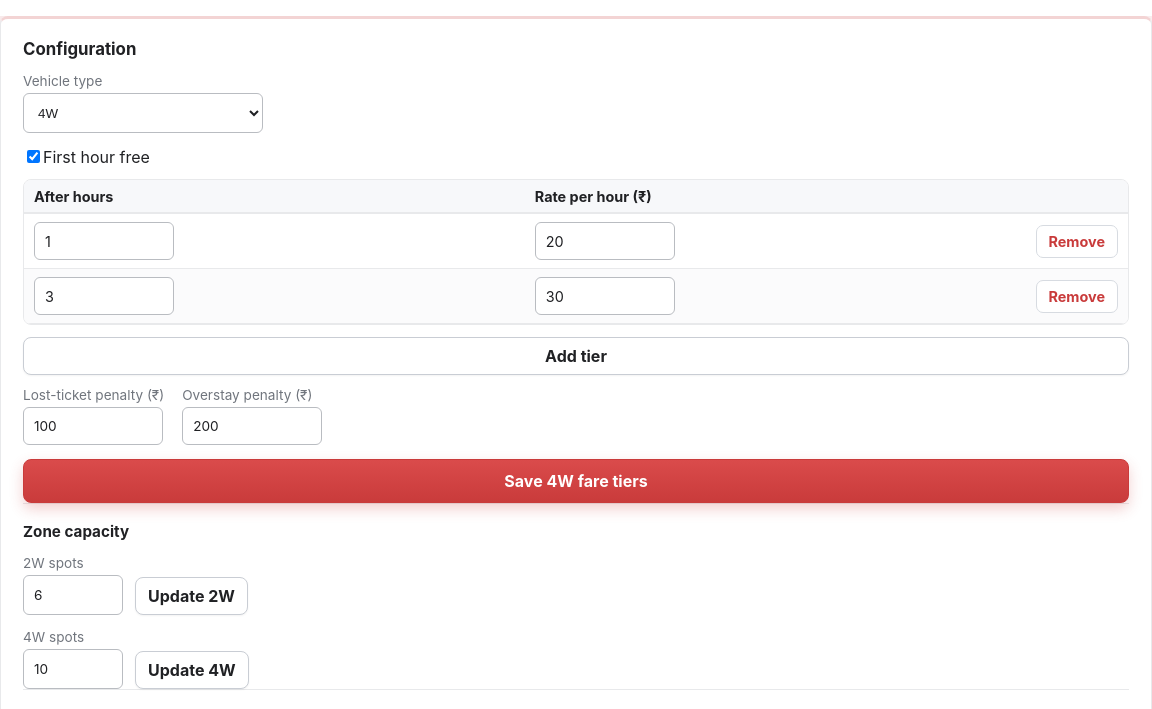
Test: S4-T4 — admin configuration panel (VPS-F-055, VPS-F-056) › updates a zone capacity and displays the server's final count
The width and height of the screenshot is (1152, 709).
Replace the text in the number field labelled "2W spots" with "5" at [73, 595], box [23,575,123,615]
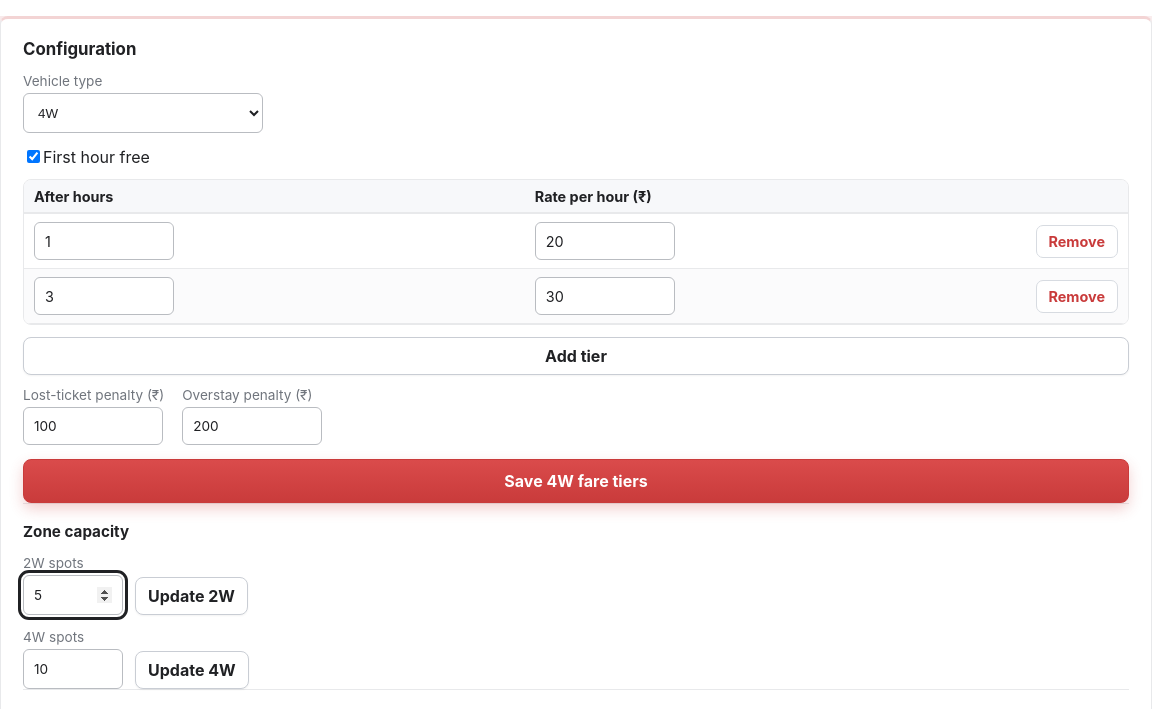
Click the button "Update 2W" at [191, 596], box [135,577,248,615]
(page scrolled)
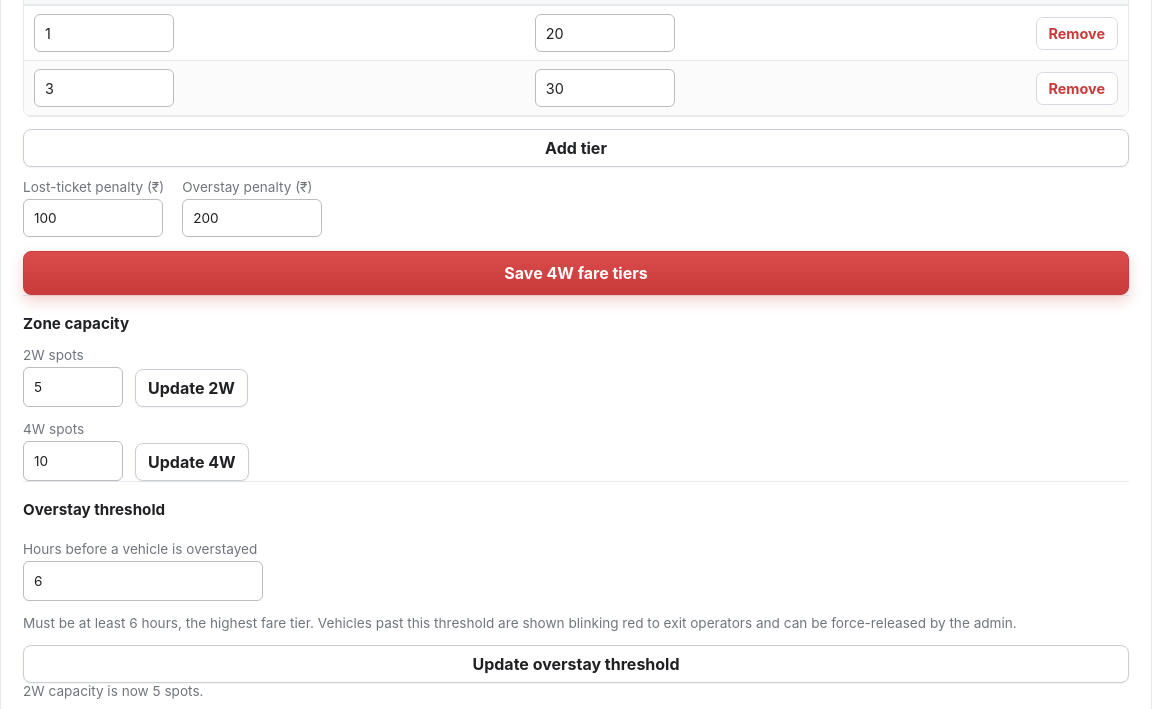
Result: the text "2W capacity is now 5 spots." is shown at [23,683,204,699]
